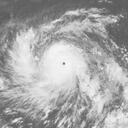cyclone: (40, 40, 86, 91)
